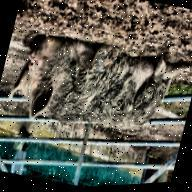boar: (5, 21, 191, 157)
